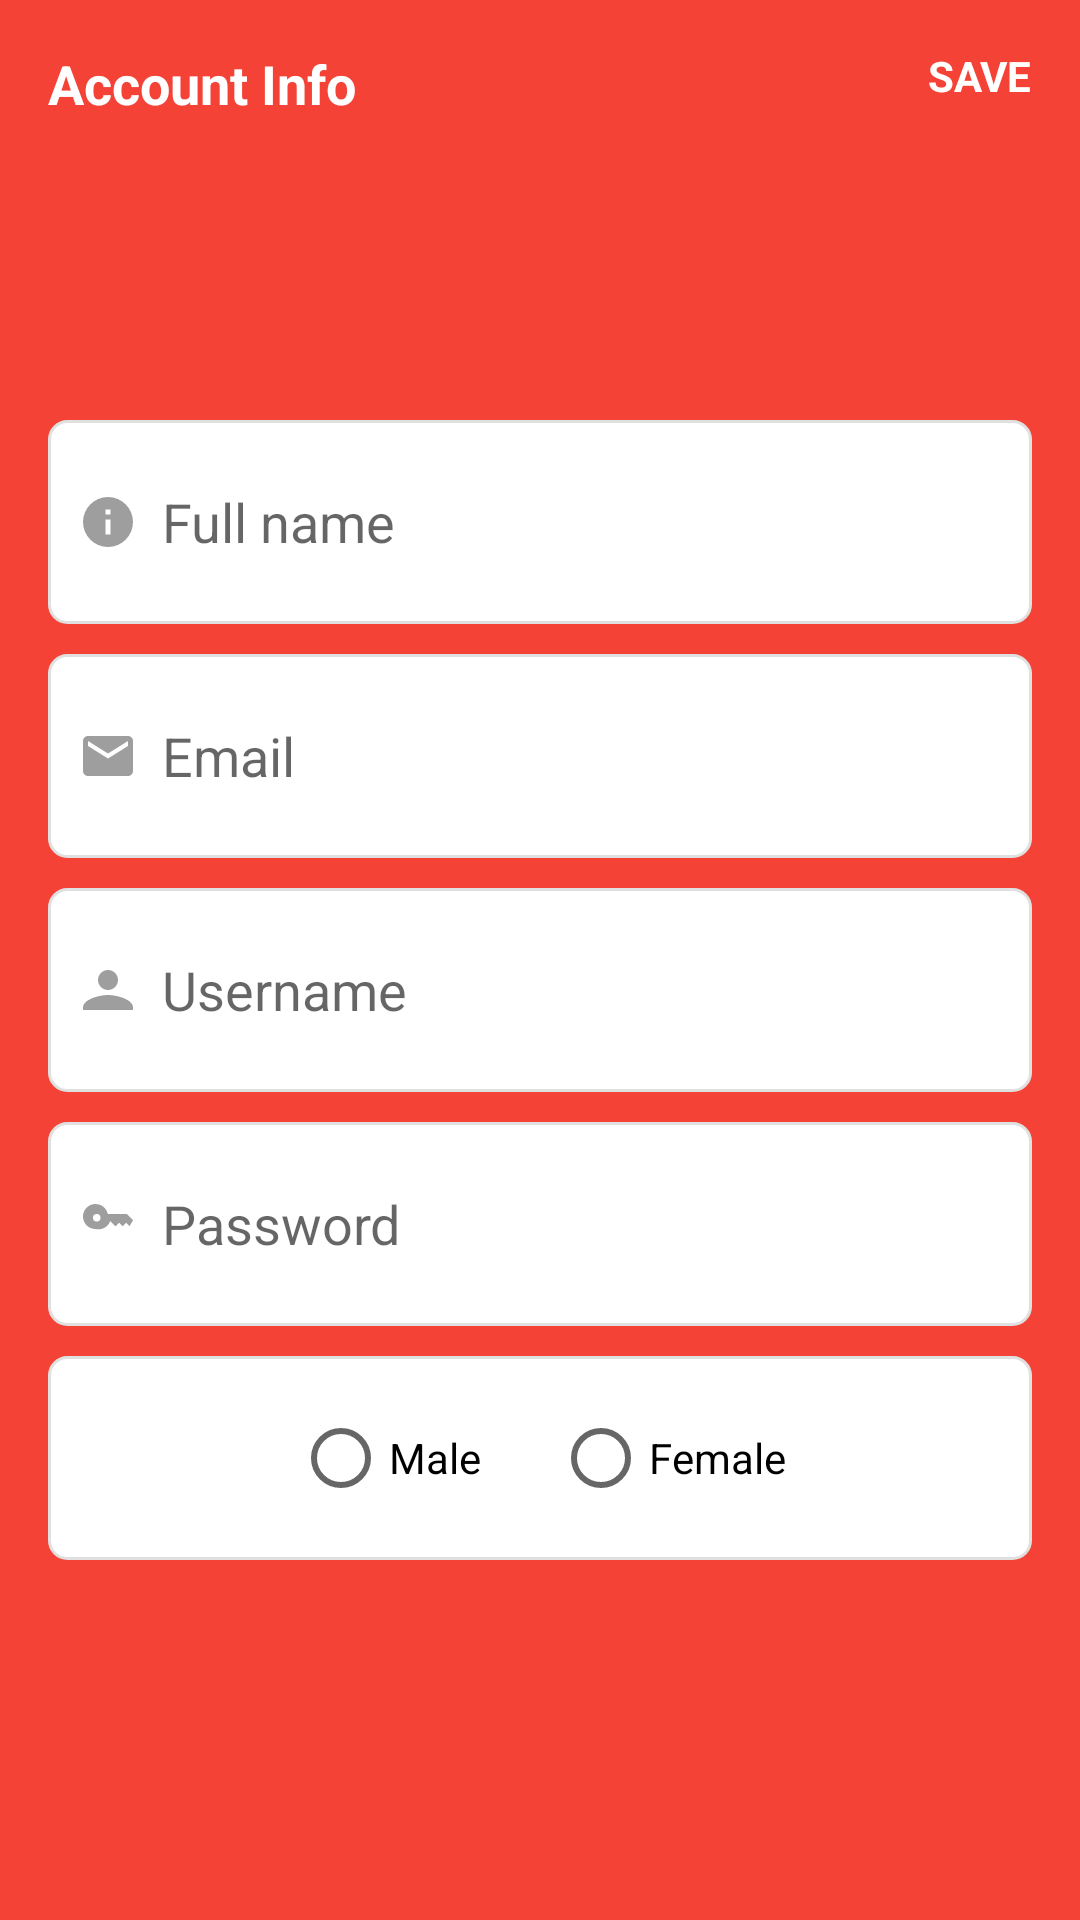

Icon click points for this 1080px x 1920px phone screenshot, format point (x, y):
info: point (108, 522)
key: point (108, 1216)
